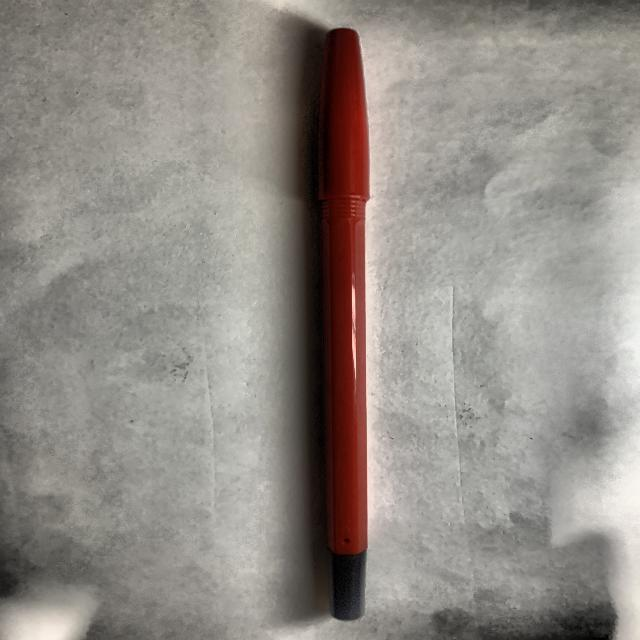Pulpen: (284, 13, 399, 635)
